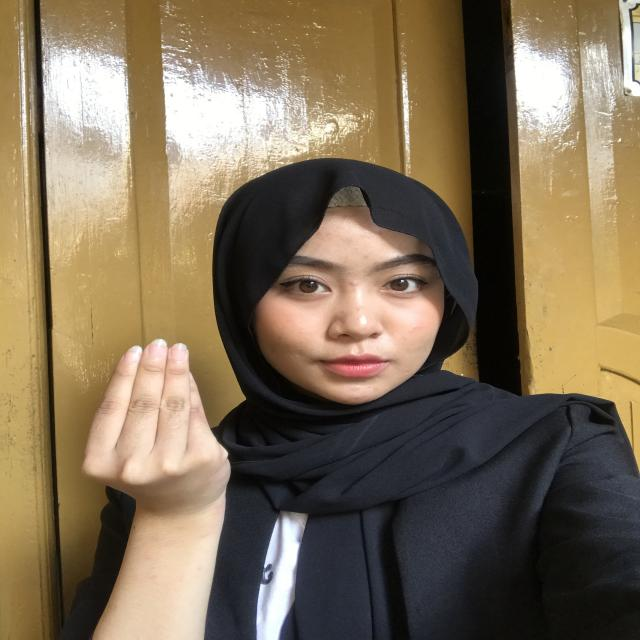kapan: (61, 334, 259, 572)
